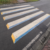zebra: (1, 5, 50, 43)
